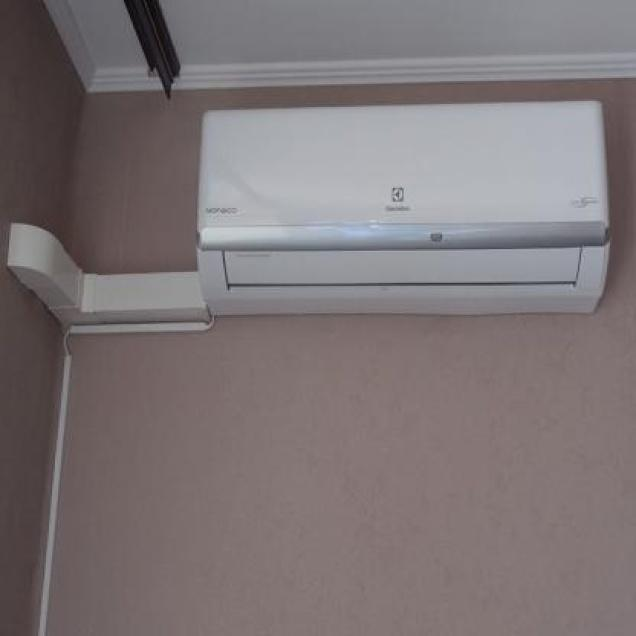AC: (195, 98, 609, 314)
